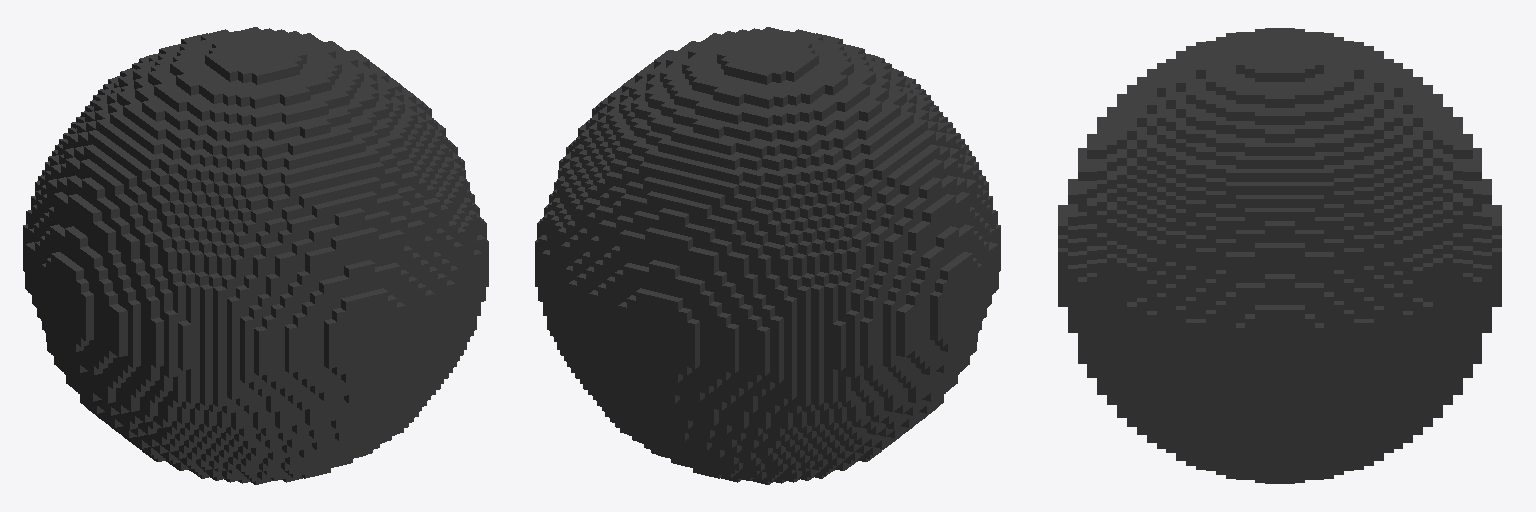
3 renders of one model, left to right at view 1: azimuth 30°, elevation 25°; view 2: azimuth 150°, elevation 25°; view 3: azimuth 270°, elevation 25°, orthographic.
Size of the model in its own units: 45 by 45 by 45.
Materials: 1 (1 with a texture image).